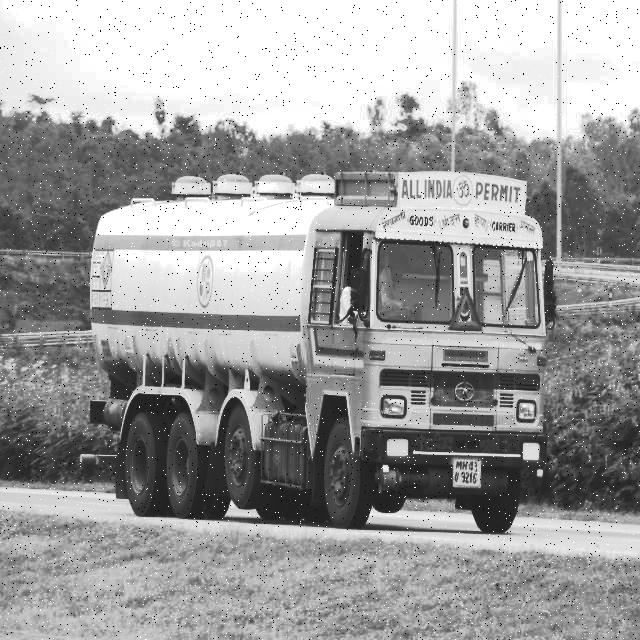HCV: (71, 134, 593, 534)
